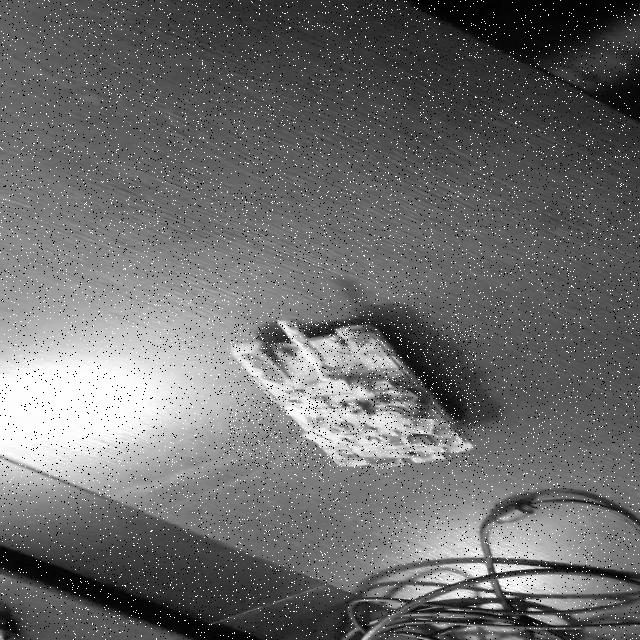MIL_MBT: (229, 322, 476, 468)
